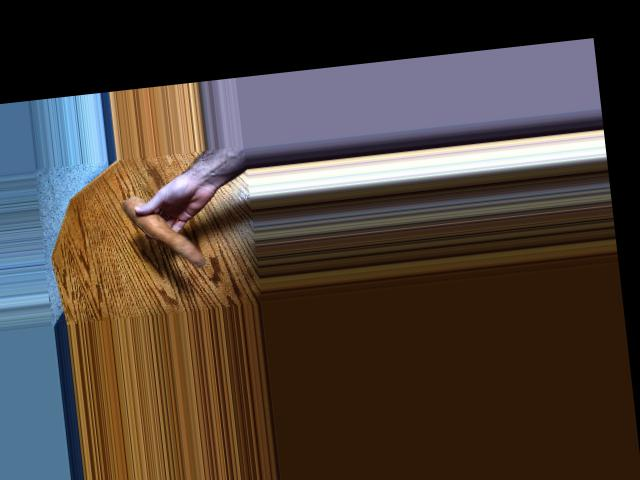sweet_potato: (123, 188, 204, 273)
